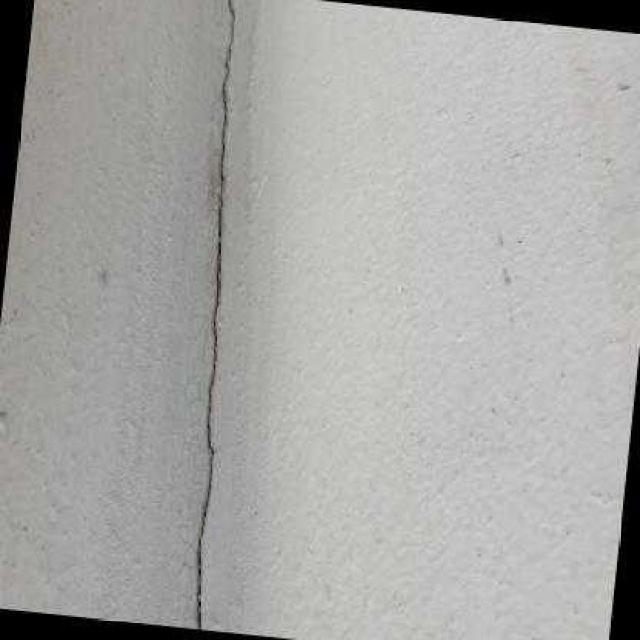D00: (192, 0, 235, 629)
